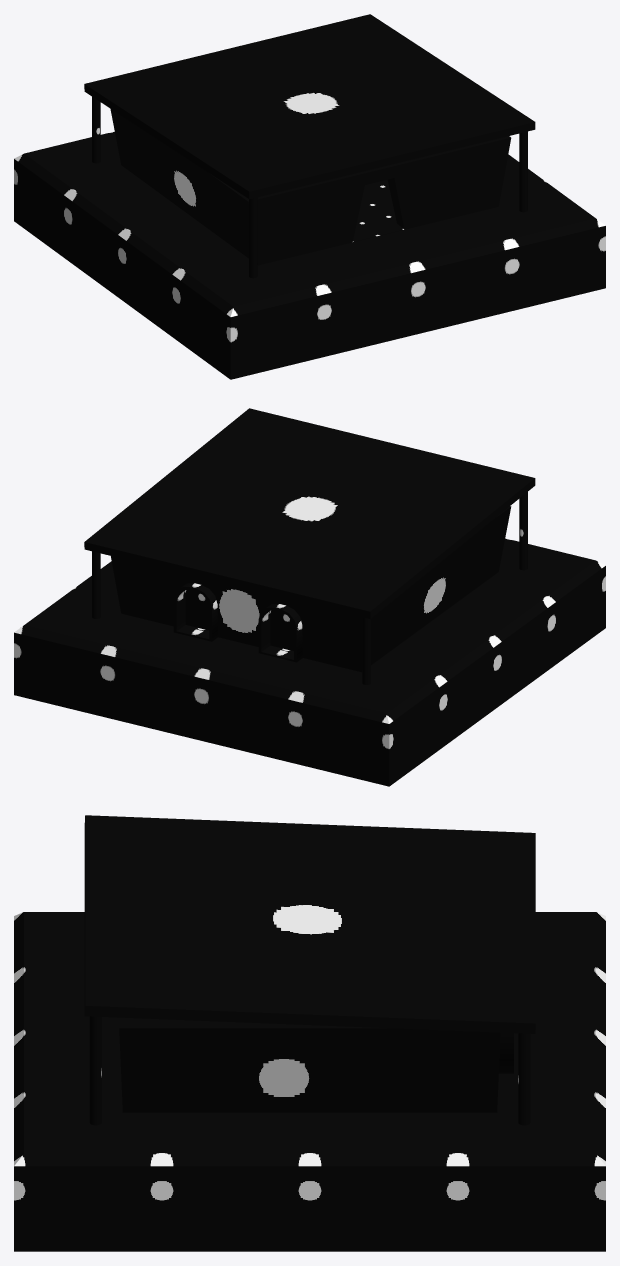
Rendered from choiceHouse.fbx.
The picture shows the model from 3 angles, top to bottom: view 1: azimuth 30°, elevation 25°; view 2: azimuth 150°, elevation 25°; view 3: azimuth 270°, elevation 25°; orthographic projection. The views are drawn at different scales.
Parts seen in each view (by area): view 1: HouseTerrasse, Roof, Room, posts; view 2: HouseTerrasse, Roof, Room, doors, posts, slidingdoor.R, slidingdoor.L; view 3: HouseTerrasse, Roof, Room, posts, doors.
Part boxes in pixels (left/top/right/bottom): HouseTerrasse: left=14, top=131, right=605, bottom=379; Roof: left=84, top=14, right=535, bottom=199; Room: left=110, top=108, right=511, bottom=265; posts: left=92, top=97, right=527, bottom=278; HouseTerrasse: left=14, top=538, right=605, bottom=786; Roof: left=84, top=408, right=535, bottom=619; Room: left=111, top=506, right=511, bottom=672; doors: left=173, top=583, right=302, bottom=662; posts: left=92, top=492, right=527, bottom=684; slidingdoor.R: left=185, top=590, right=209, bottom=630; slidingdoor.L: left=270, top=610, right=293, bottom=650; HouseTerrasse: left=14, top=912, right=605, bottom=1251; Roof: left=84, top=815, right=535, bottom=1033; Room: left=119, top=1017, right=500, bottom=1112; posts: left=89, top=1016, right=530, bottom=1125; doors: left=499, top=1032, right=513, bottom=1073.
Size of the model in its own units: 17.7 by 17.7 by 7.13.
